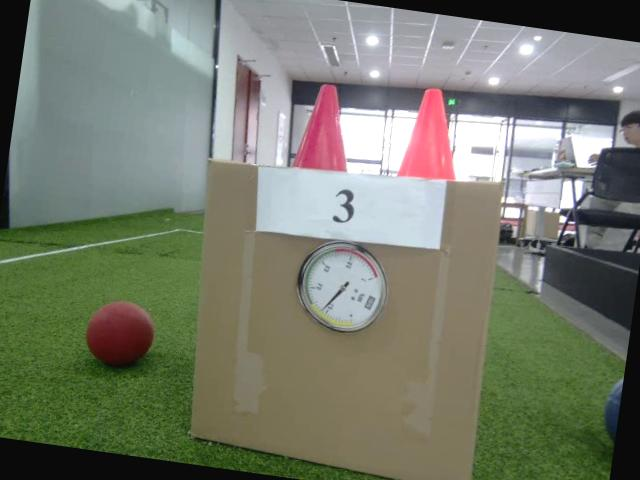3: (331, 186, 358, 223)
Dashboard: (289, 234, 392, 338)
orange_barrel: (395, 84, 470, 184)
red_ball: (80, 296, 159, 372)
red_barrel: (290, 80, 360, 174)
ssi: (364, 296, 376, 310)
